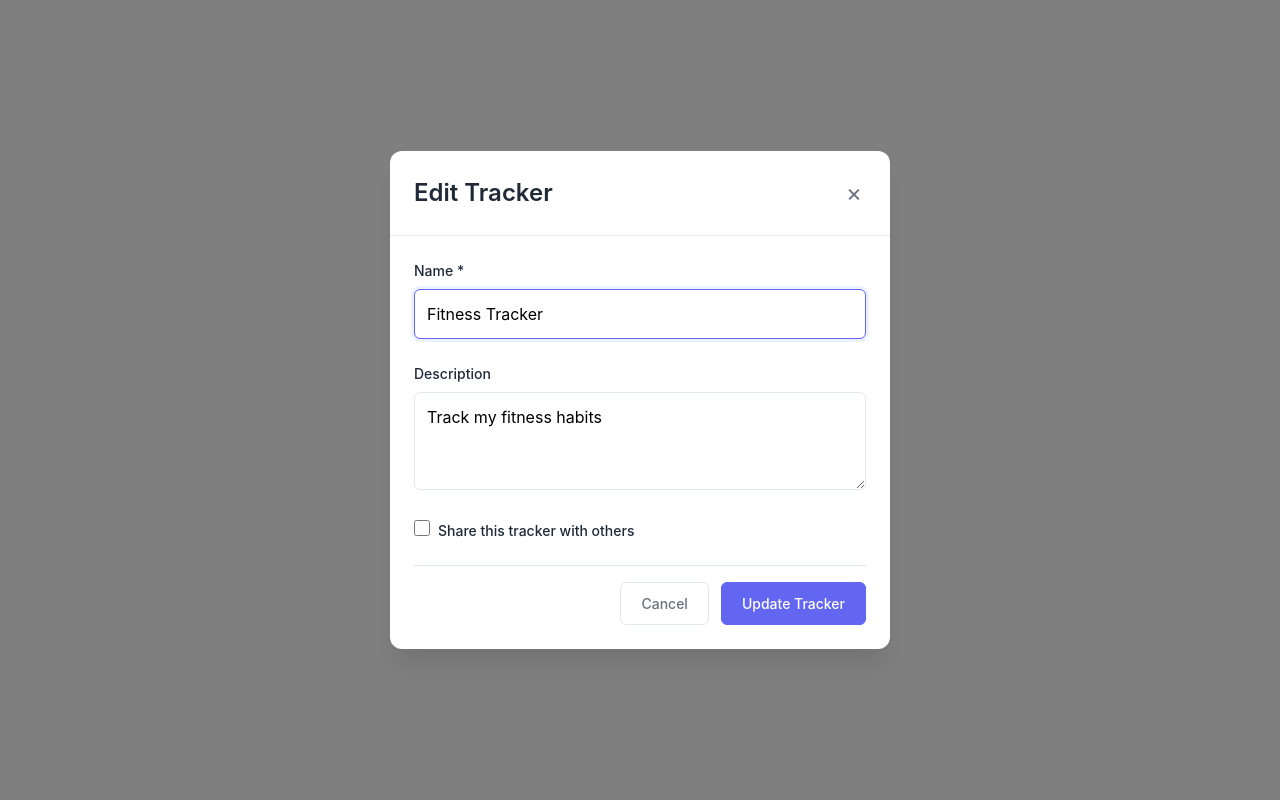
it: EditTrackerModal Component › validates required name field
Clear the field showing "Fitness Tracker" at [640, 314], box [414,289,866,339]
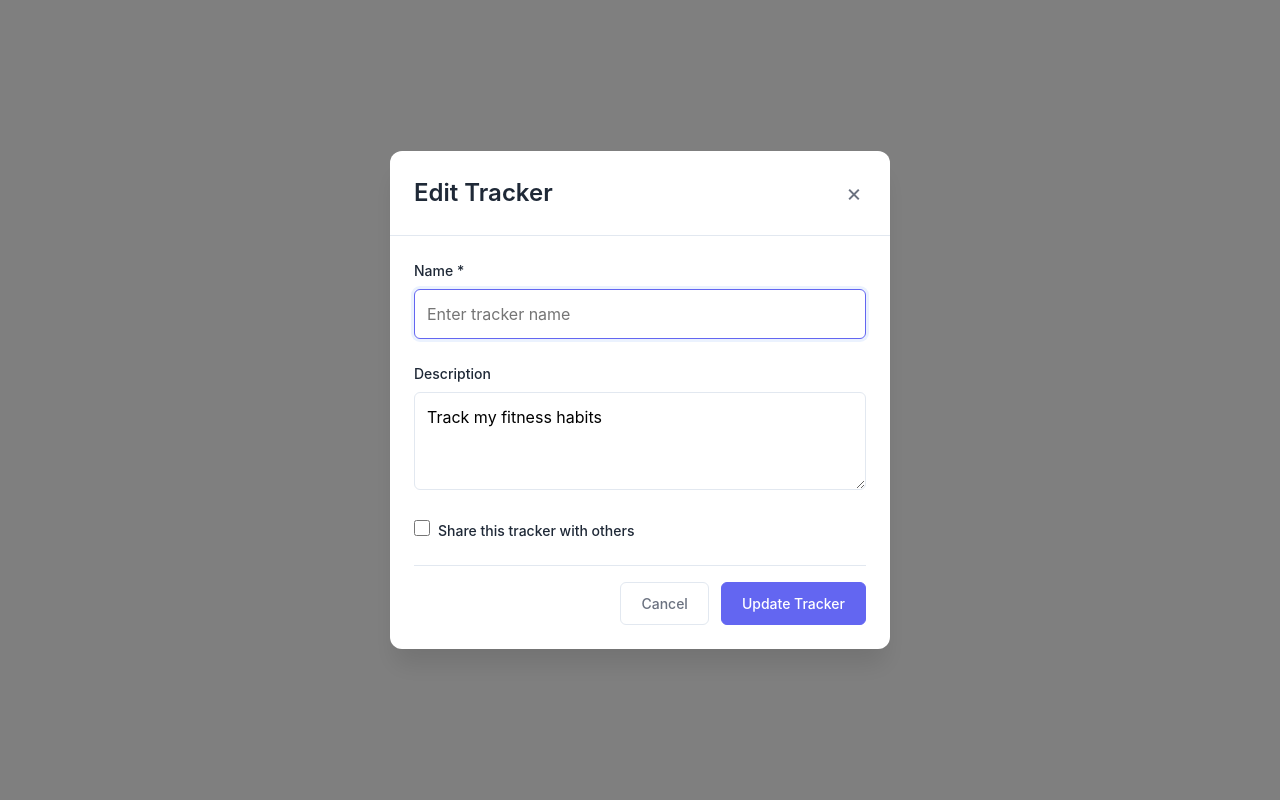
Click the button "Update Tracker".
click(793, 604)  # box [721,582,866,625]
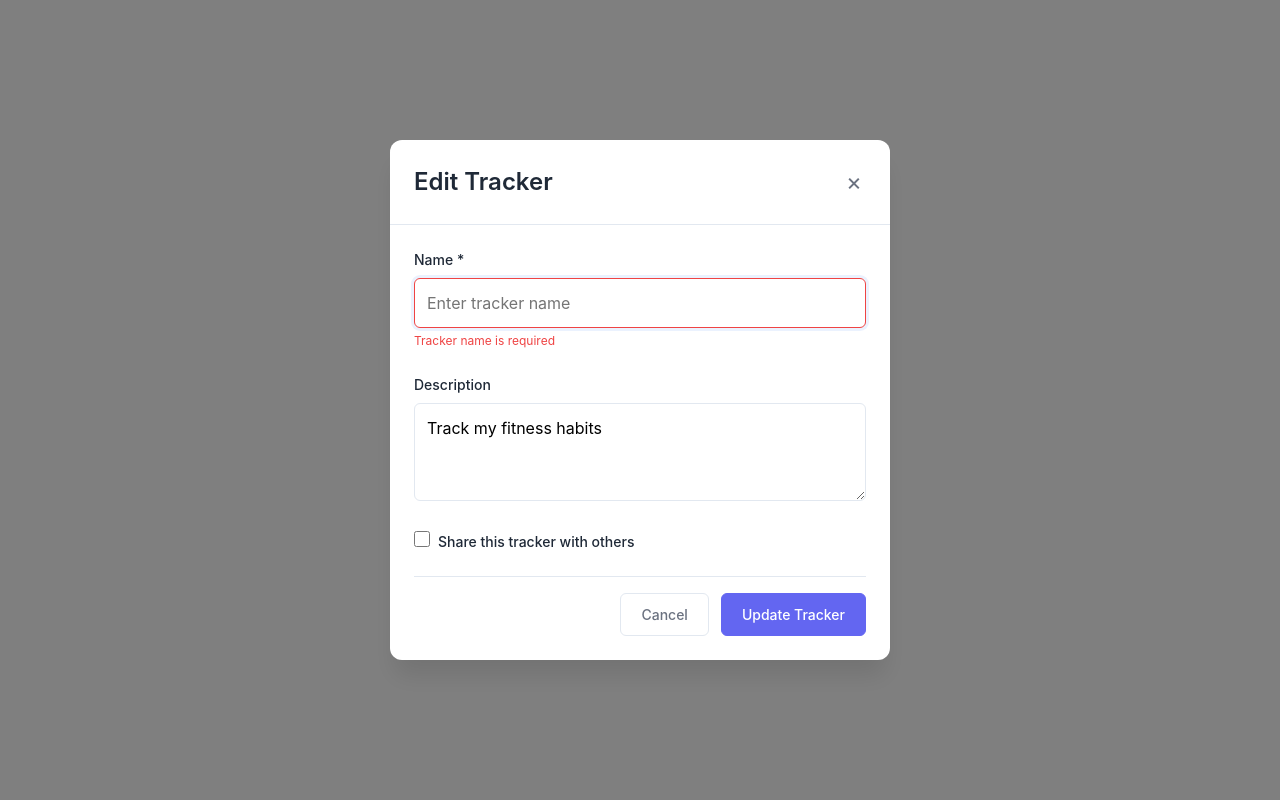
Expected: the text "Tracker name is required" is shown, [414,333,555,348]
